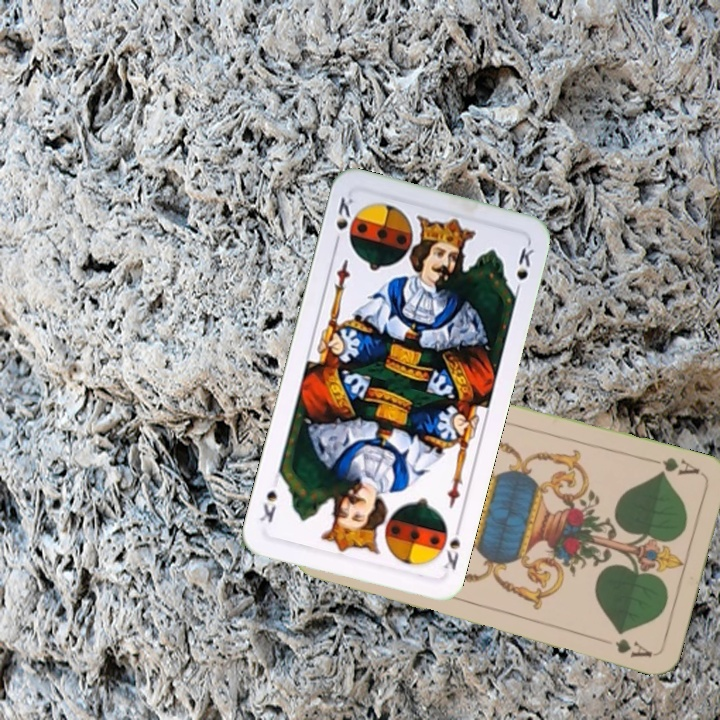GA: (645, 453, 703, 478)
SK: (330, 192, 356, 249), (439, 519, 464, 573)
